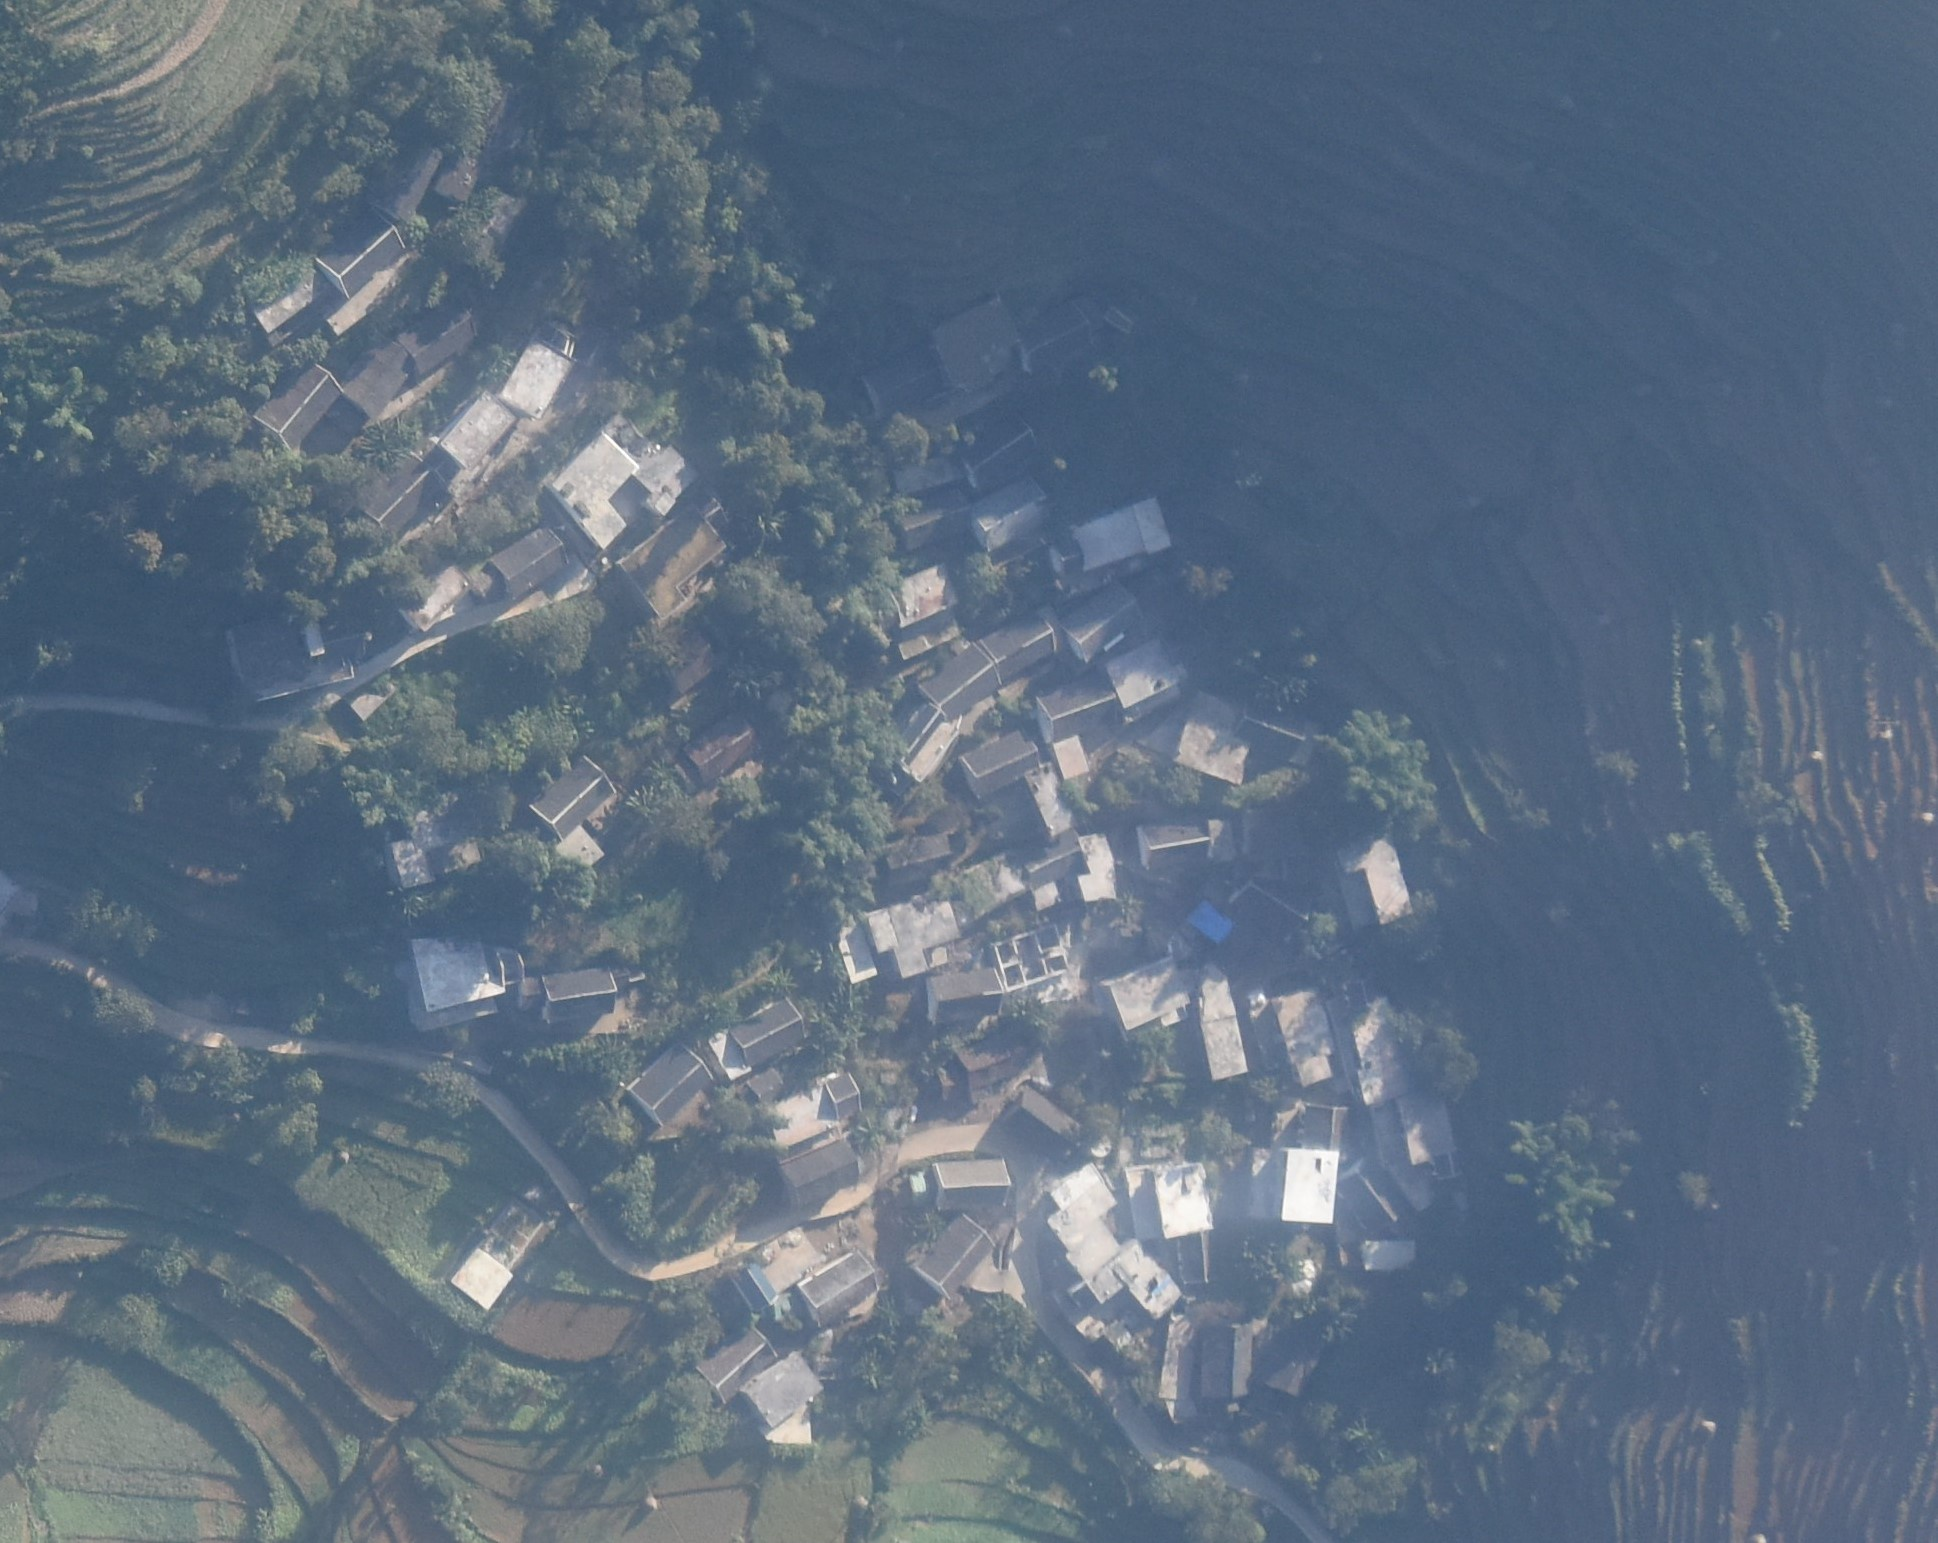building: (1110, 923, 1248, 1082), (1044, 1162, 1182, 1318), (554, 409, 704, 546), (619, 491, 727, 620), (227, 605, 354, 702), (449, 1197, 549, 1312), (412, 931, 526, 1030), (1055, 493, 1173, 575), (353, 446, 453, 537), (1346, 978, 1417, 1107), (312, 208, 409, 301), (864, 894, 963, 978), (527, 753, 614, 844), (255, 362, 345, 447), (1245, 1146, 1340, 1227), (912, 1212, 997, 1301), (1335, 830, 1414, 924), (745, 1349, 822, 1445), (627, 1041, 713, 1124), (1269, 986, 1333, 1088), (1060, 583, 1145, 660), (930, 299, 1020, 372), (858, 346, 949, 417), (1126, 1164, 1212, 1238), (696, 1329, 779, 1404), (916, 646, 1003, 718), (442, 387, 520, 468), (952, 1027, 1031, 1104), (490, 523, 570, 598), (945, 855, 1025, 931), (1004, 1083, 1085, 1159), (501, 337, 575, 419), (405, 790, 482, 868), (1104, 638, 1185, 710), (338, 337, 409, 420), (800, 1249, 875, 1326), (970, 477, 1049, 551), (959, 726, 1041, 797), (397, 302, 480, 372), (979, 611, 1056, 685), (1400, 1088, 1463, 1178), (959, 416, 1037, 487), (776, 1138, 858, 1204), (1340, 1157, 1411, 1233), (1017, 302, 1093, 373), (542, 965, 634, 1022), (732, 998, 808, 1068), (992, 924, 1069, 992), (1037, 679, 1118, 743), (400, 564, 472, 635), (882, 562, 962, 625), (1234, 697, 1307, 765), (686, 710, 759, 776), (1236, 872, 1311, 935), (926, 964, 1001, 1027), (893, 490, 968, 551), (1263, 1323, 1326, 1395), (1200, 1323, 1255, 1400), (934, 1157, 1011, 1211), (1026, 760, 1080, 834), (893, 452, 963, 501), (1138, 820, 1212, 866), (252, 280, 316, 332), (883, 834, 952, 880), (891, 701, 943, 760), (1078, 834, 1119, 904), (834, 921, 878, 984), (1019, 839, 1083, 882), (390, 834, 435, 890), (734, 1263, 778, 1313), (1179, 1228, 1215, 1286), (1308, 1104, 1351, 1153), (1363, 1238, 1422, 1272), (713, 1025, 749, 1079), (827, 1069, 863, 1116), (1053, 734, 1089, 781), (1209, 817, 1234, 863)
prefabricated-house: (1187, 901, 1234, 943)
